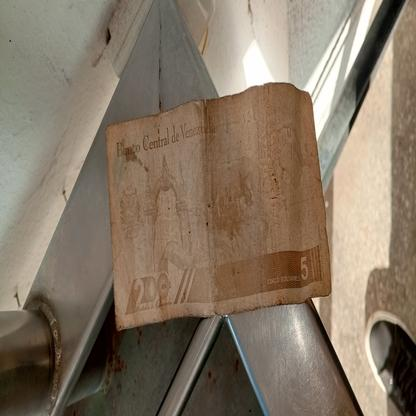five-back-vef: (104, 82, 331, 331)
